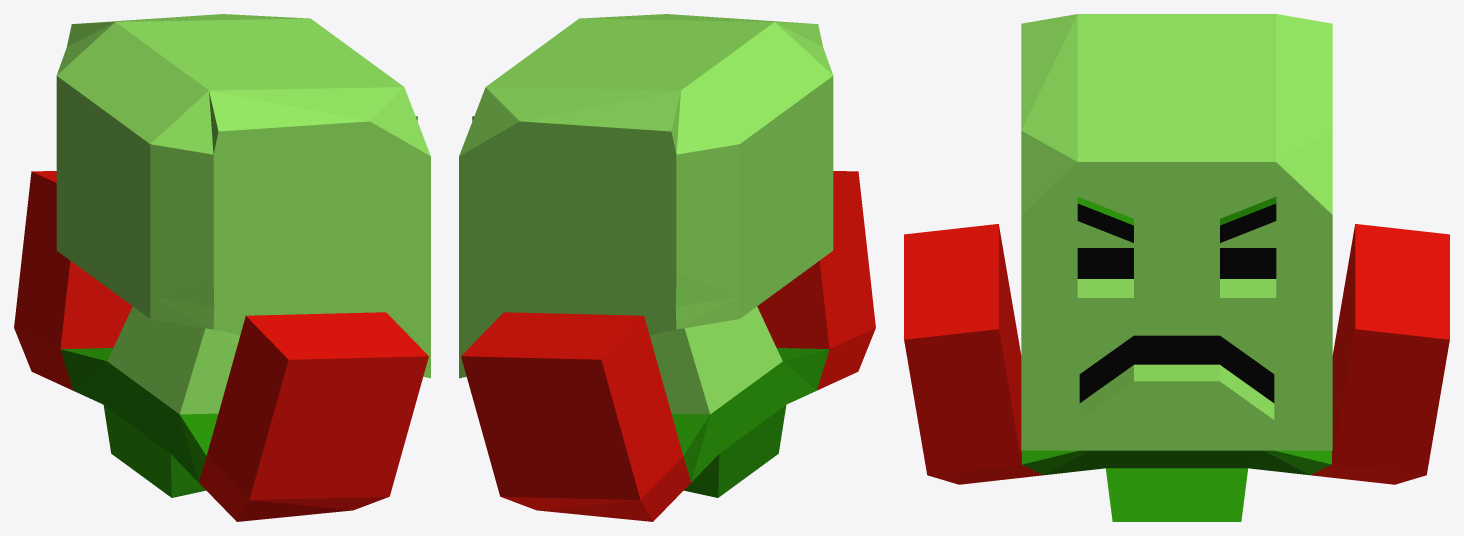
The model's file is jokerbot.dae.
3 renders of one model, left to right at view 1: azimuth 30°, elevation 25°; view 2: azimuth 150°, elevation 25°; view 3: azimuth 270°, elevation 25°, orthographic. The views are drawn at different scales.
Parts seen in each view (by area): view 1: JokerBot; view 2: JokerBot; view 3: JokerBot.
Boxes of the visible parts, left/top/right/bottom form: JokerBot: left=14, top=14, right=430, bottom=521; JokerBot: left=459, top=14, right=875, bottom=521; JokerBot: left=904, top=14, right=1449, bottom=521.
Bounding box in the file's own units: 2.1 × 3.51 × 3.15.
